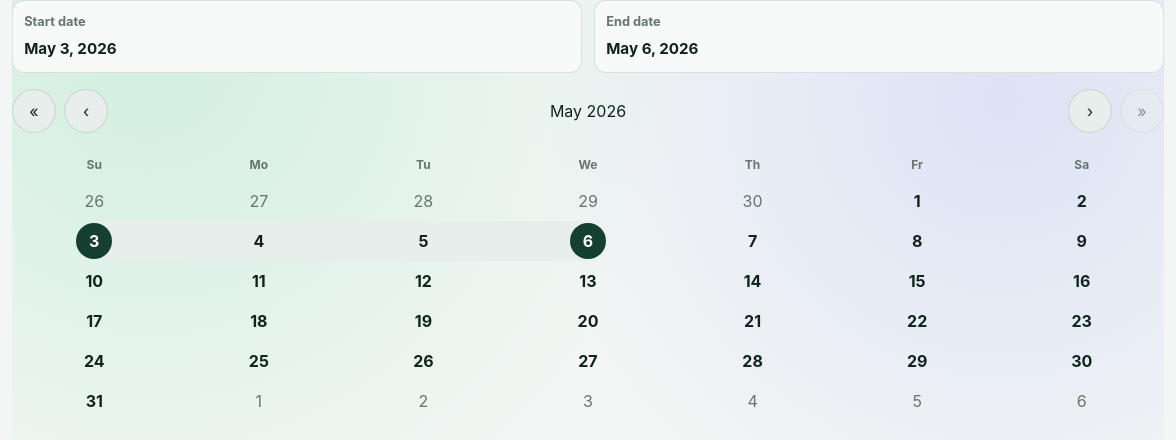
DateRangePicker six-week calendar › starts a new partial range after clicking a complete range
The image size is (1176, 440).
What coordinates should you click on to do the following:
click the button "10"
I would click on:
 (94, 281)
Its box is [76,263,112,299].
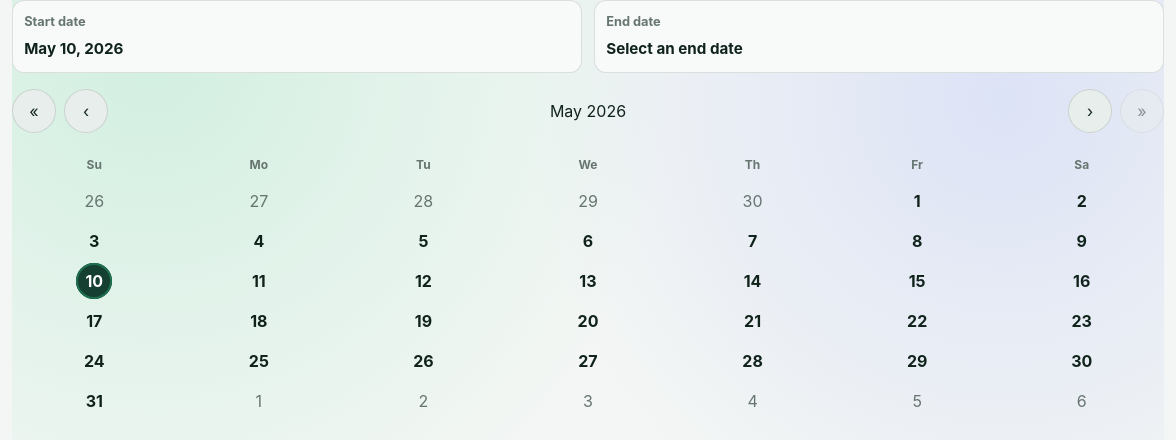
Expected: the text "May 10, 2026" is shown, [24,39,123,58]
Expected: the text "Select an end date" is shown, [606,39,743,58]
